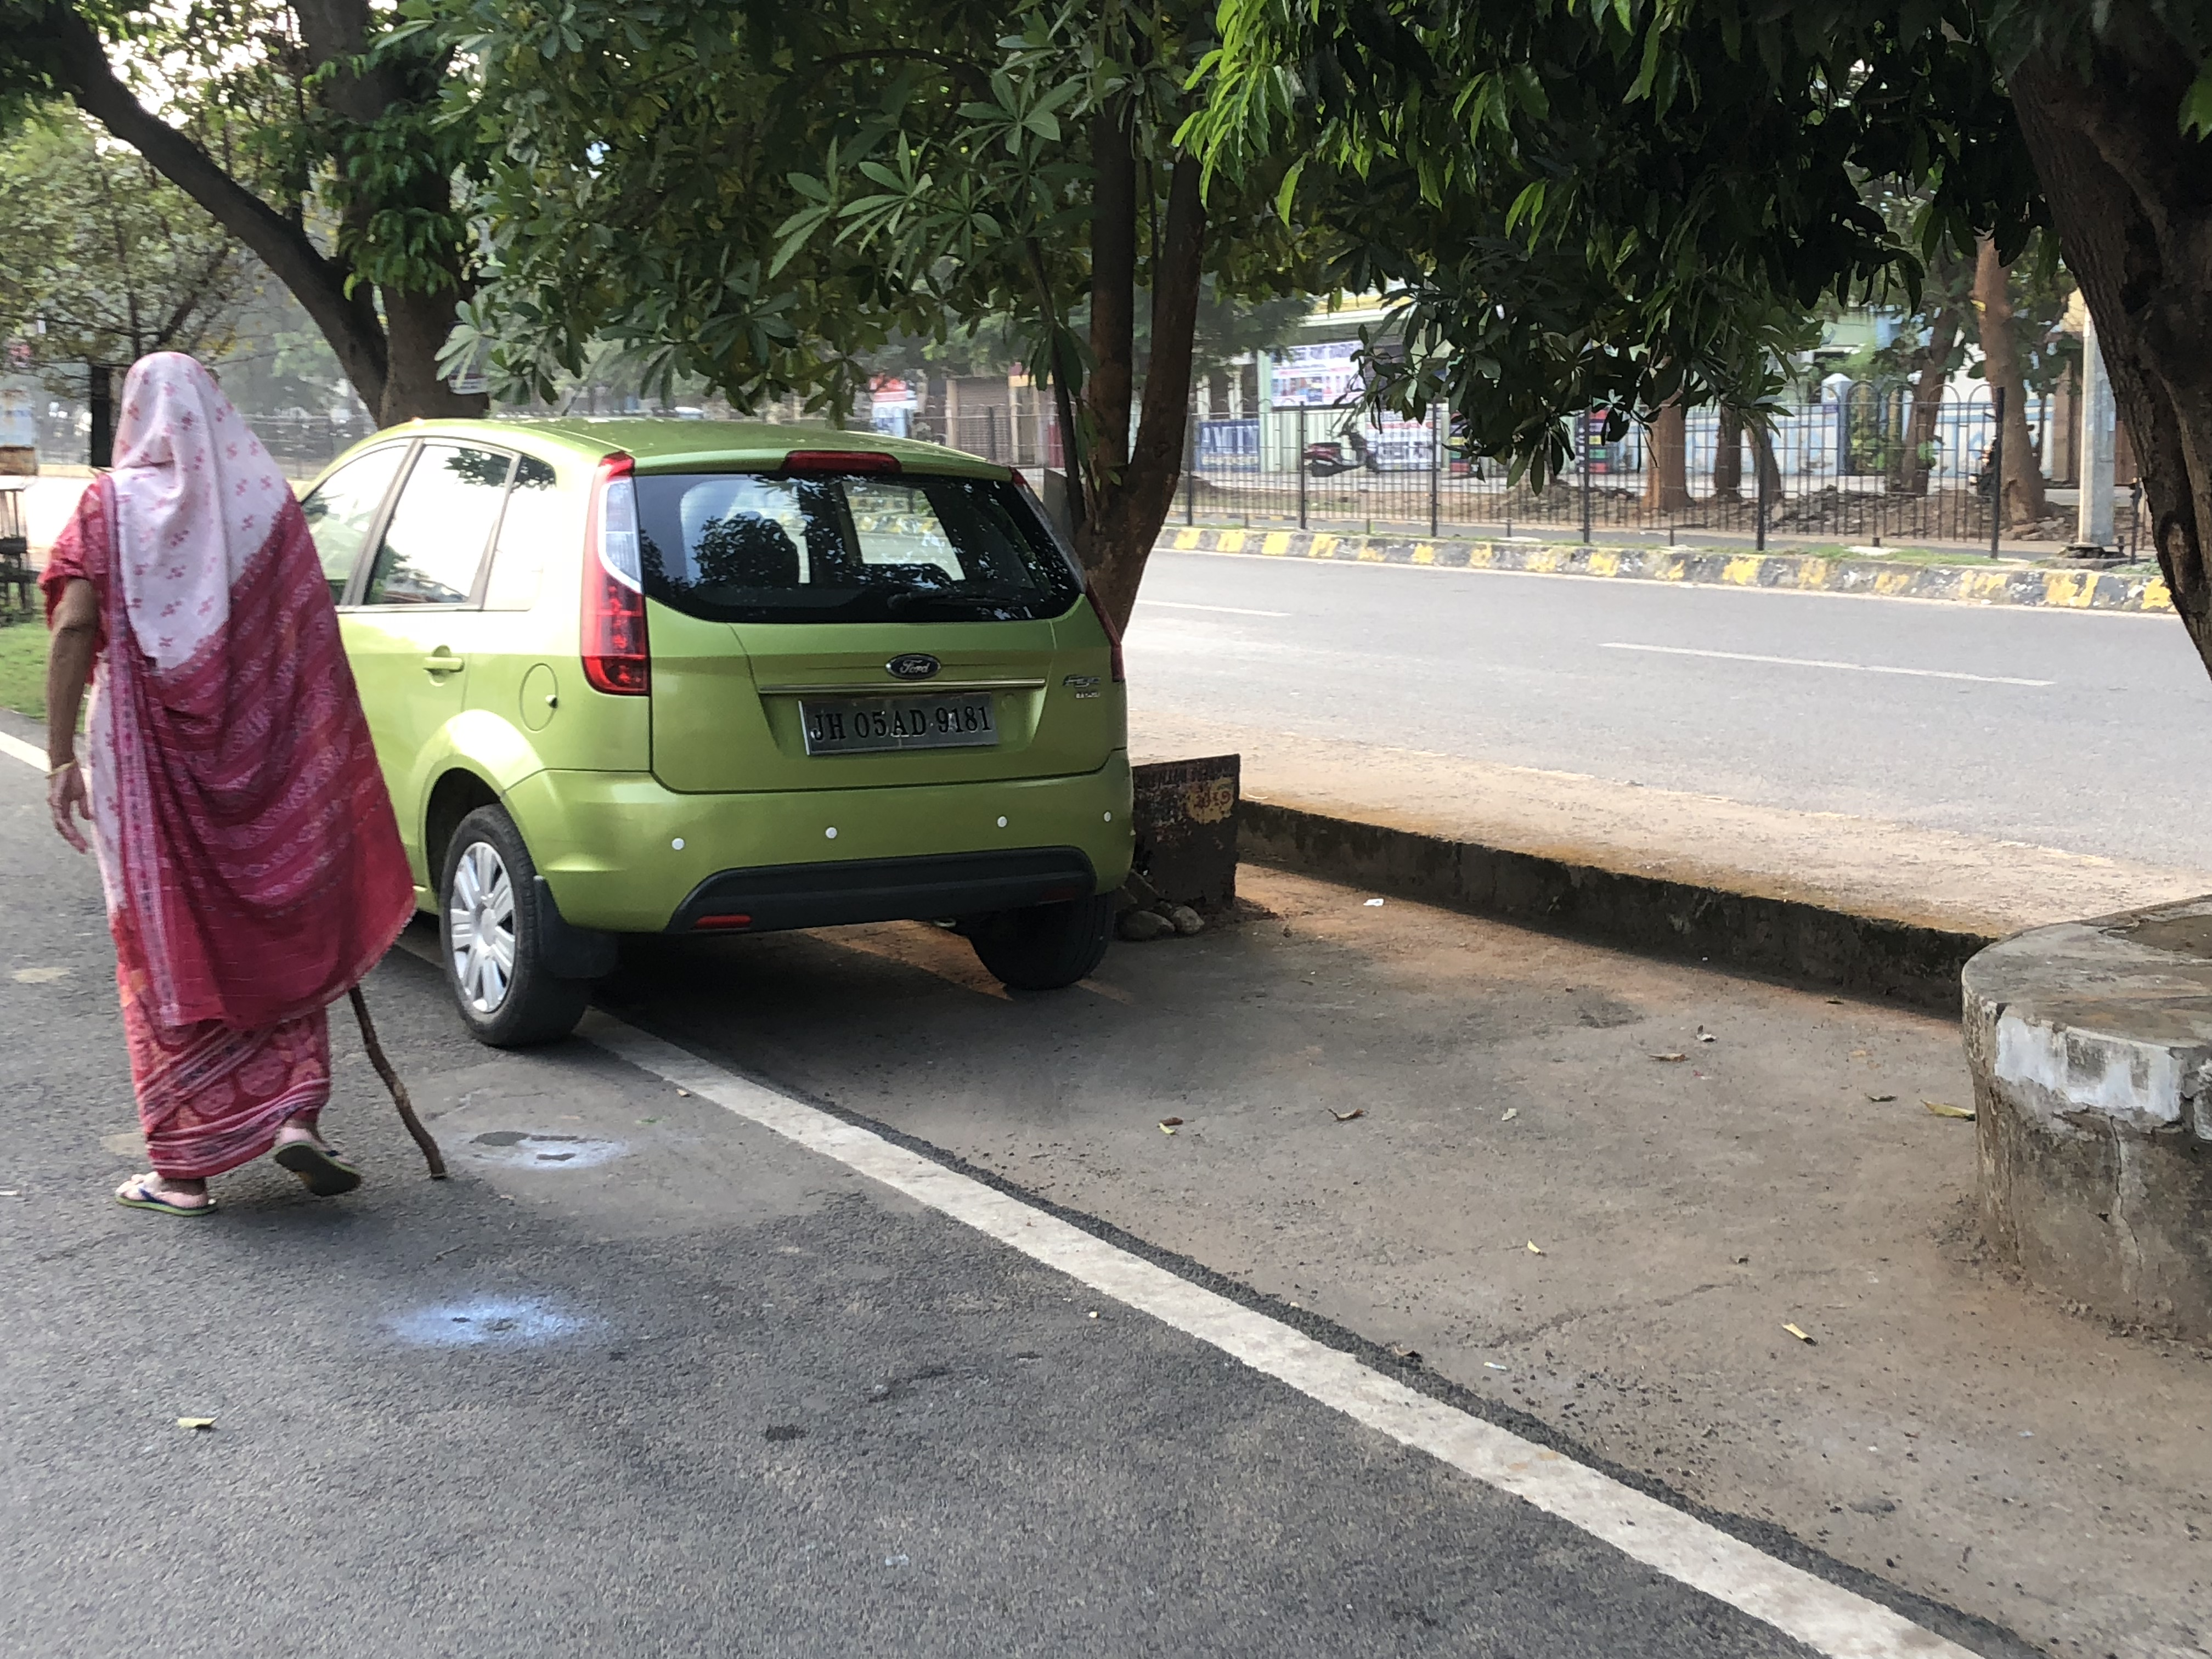licenseplate: (780, 673, 1014, 768)
